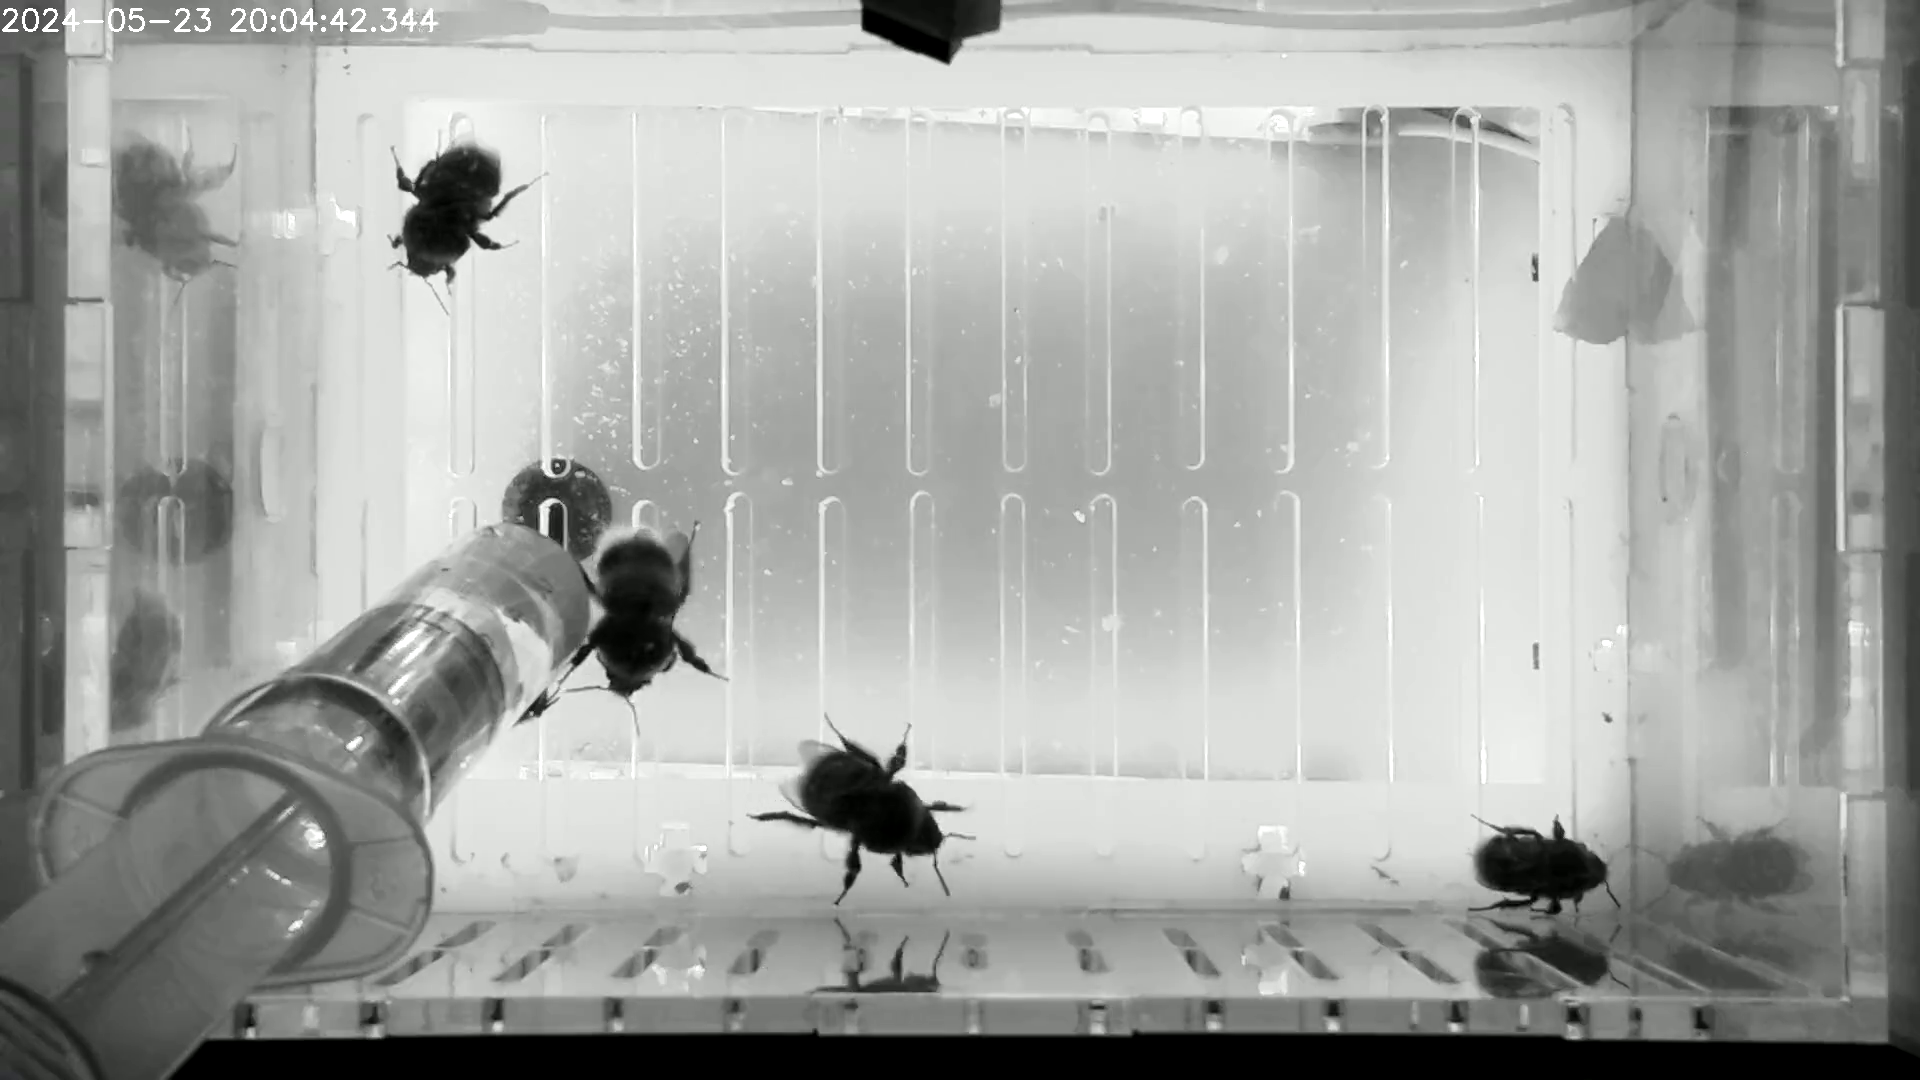bee: (749, 695, 985, 909), (556, 502, 733, 742), (367, 116, 556, 314), (1447, 802, 1634, 923), (509, 675, 578, 775)
feeder: (367, 462, 651, 746)
